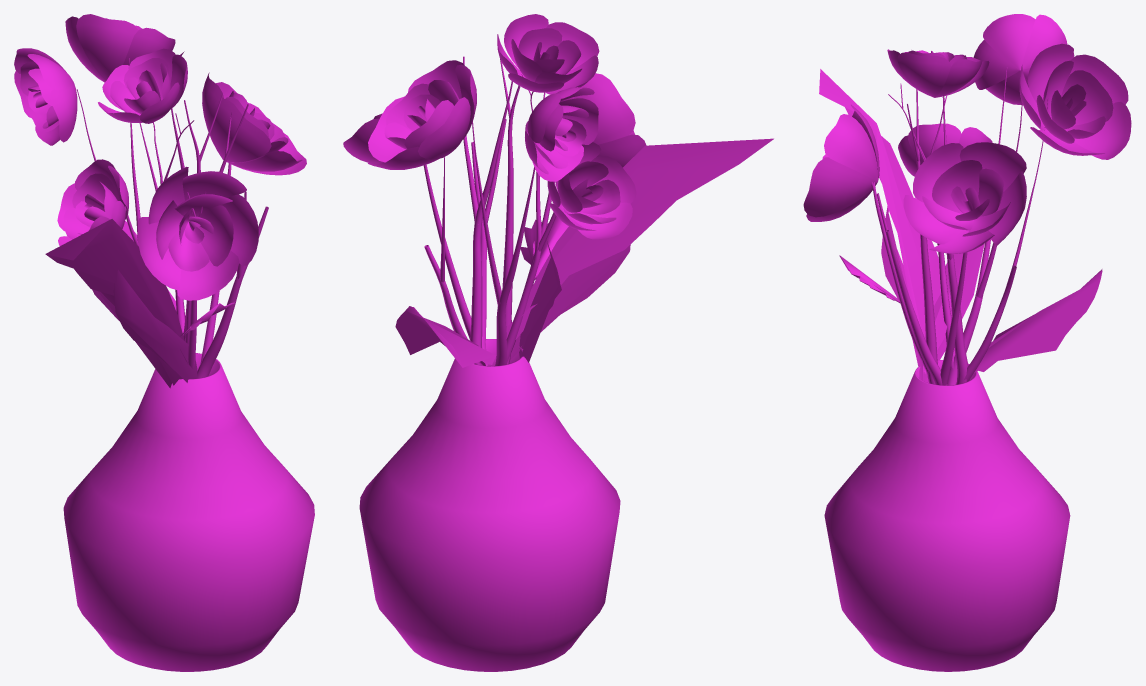
The model's file is roses.fbx.
3 views of the same model, side by side, from view 1: azimuth 30°, elevation 25°; view 2: azimuth 150°, elevation 25°; view 3: azimuth 270°, elevation 25° (orthographic). The views are drawn at different scales.
Visible parts, largest first — view 1: Sphere; view 2: Sphere; view 3: Sphere.
Boxes of the visible parts, x1,y1,x2,y2 form: Sphere: [14, 14, 314, 671]; Sphere: [343, 14, 773, 671]; Sphere: [803, 14, 1131, 671].
Bounding box in the file's own units: 3.18 × 5.51 × 2.84.
